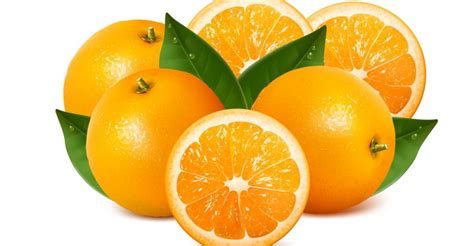orange: (251, 64, 398, 216), (84, 66, 225, 222), (68, 18, 205, 76)
